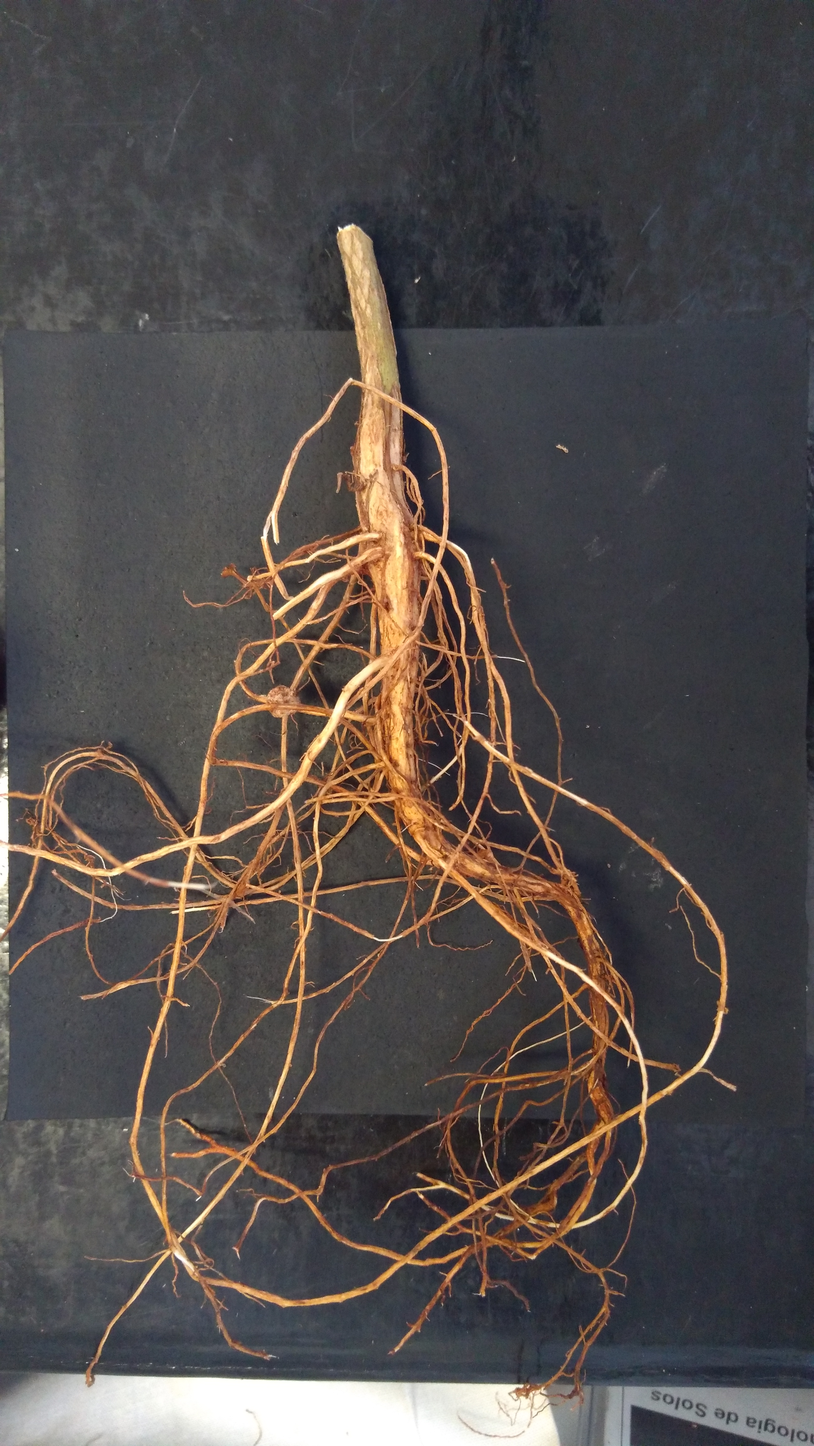nodule: (267, 685, 301, 718), (472, 848, 494, 862), (340, 573, 351, 583)
